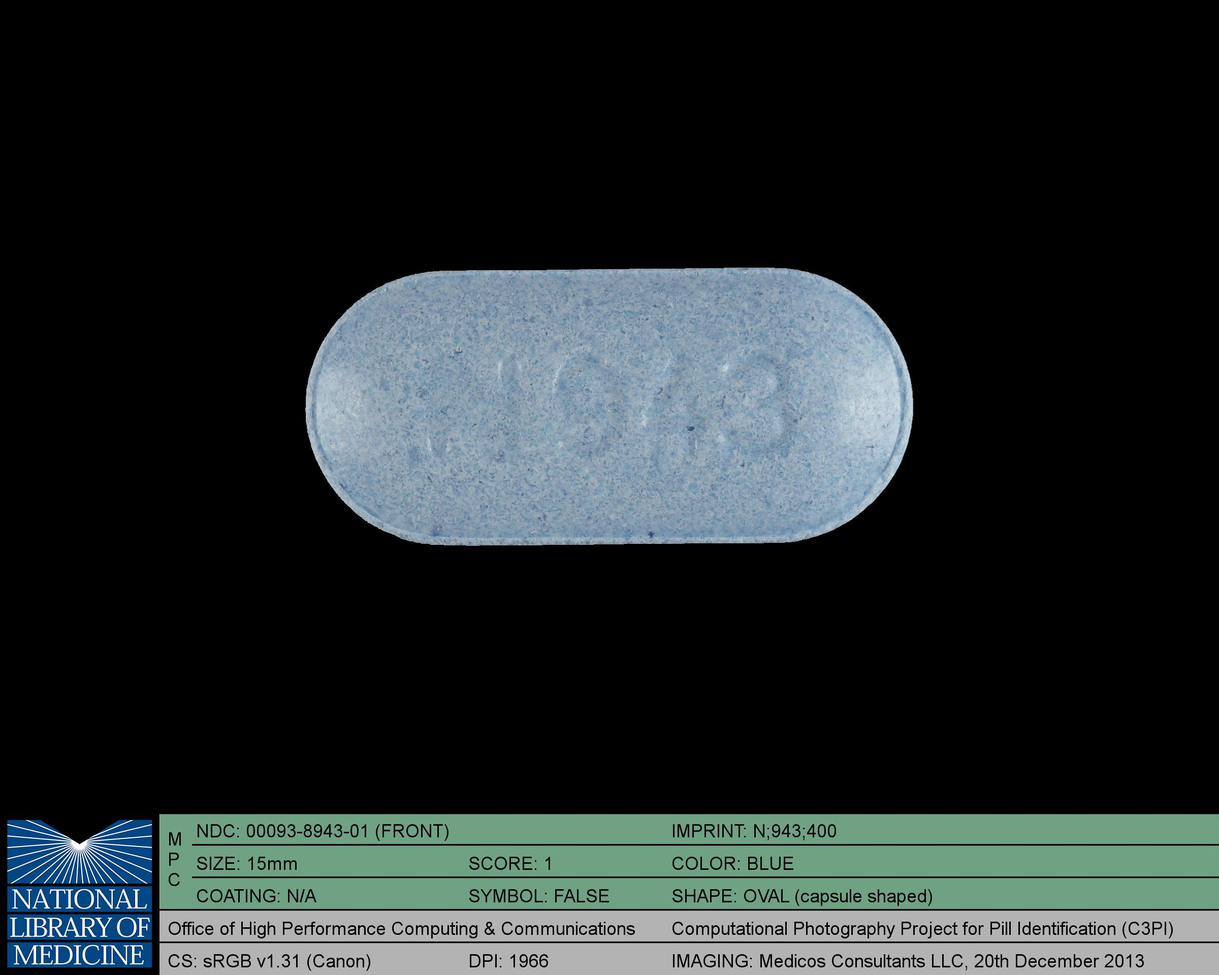Pill: (291, 254, 928, 559)
